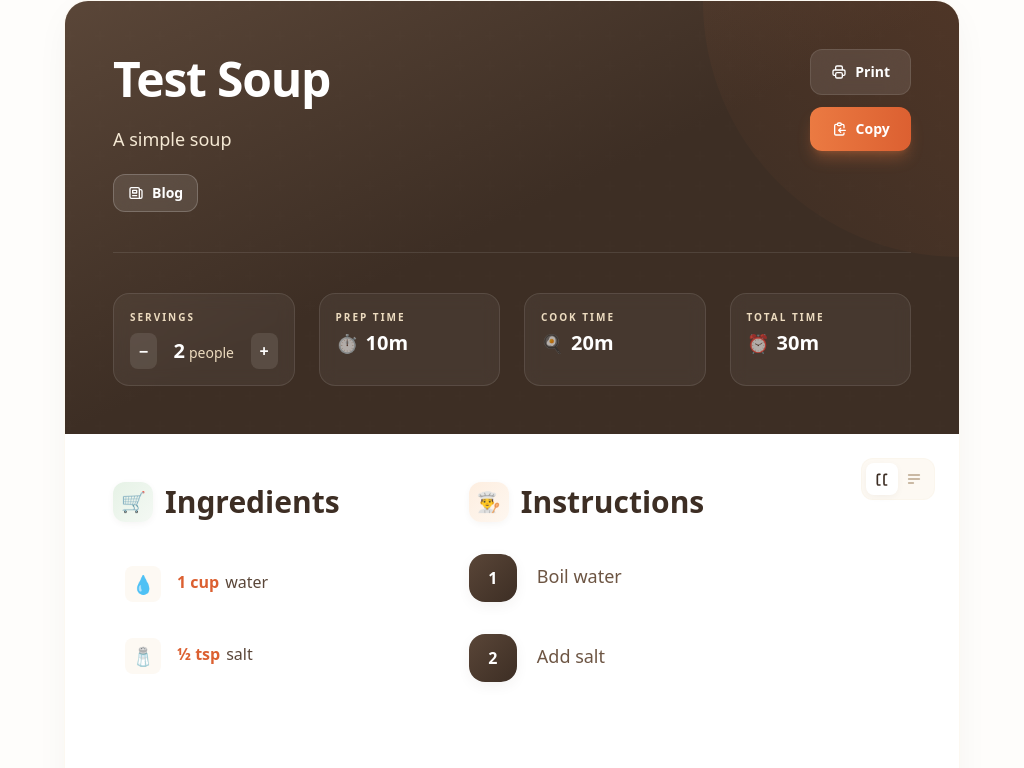
Test: RecipeCard › adjusts servings and scales ingredient amounts
expect the text "1 cup" is shown: met, box x1=177 y1=571 x2=219 y2=593
Click the button named "increase servings": x=264, y=351 x1=251 y1=333 x2=278 y2=369
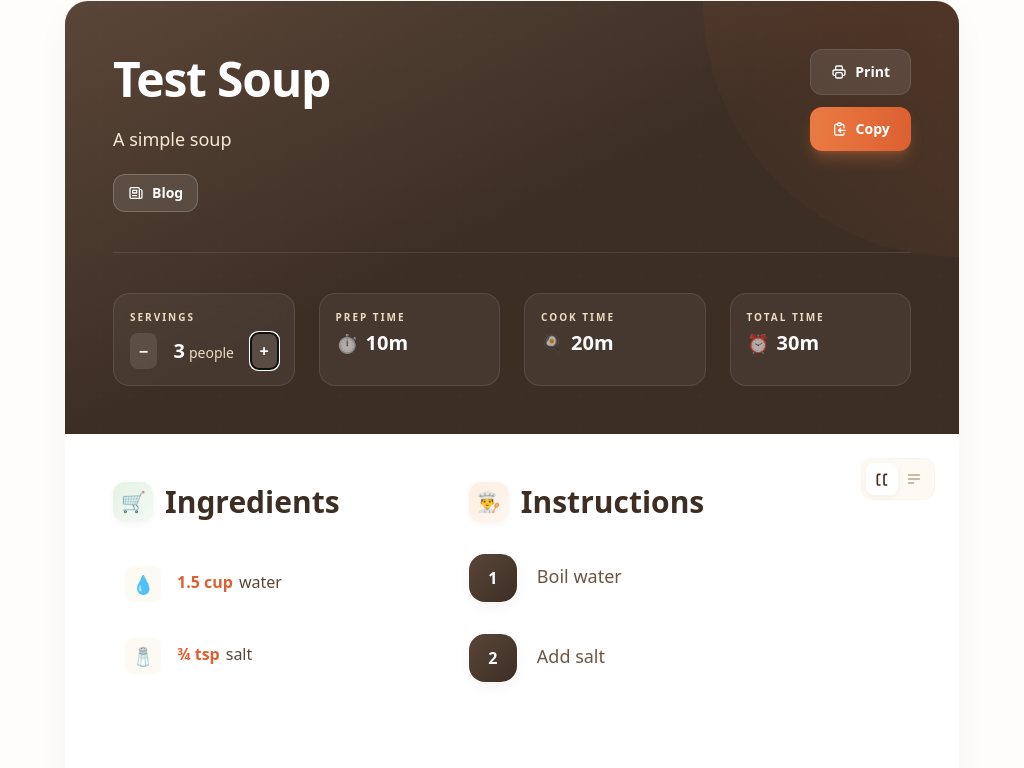
expect the text "1.5 cup" is shown: met, box x1=177 y1=571 x2=233 y2=593
